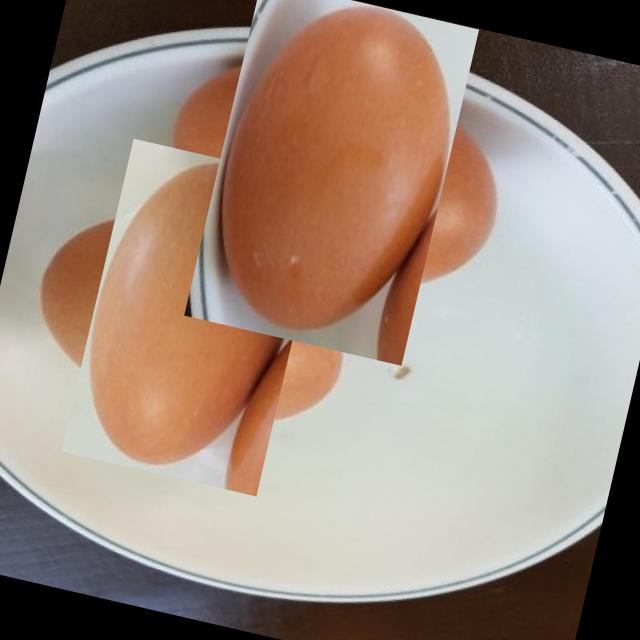eggs: (160, 0, 502, 342), (38, 162, 352, 474)
